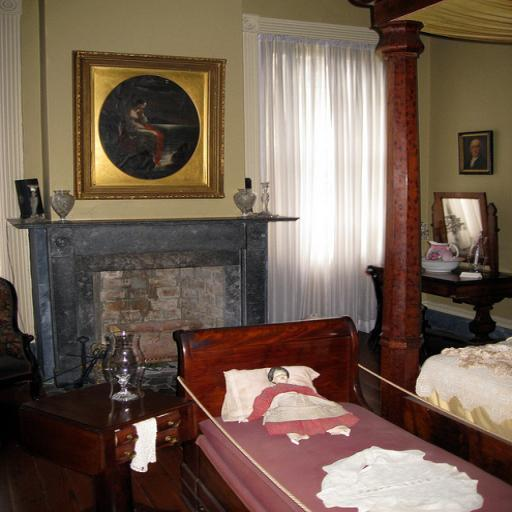bed: (189, 281, 511, 512)
